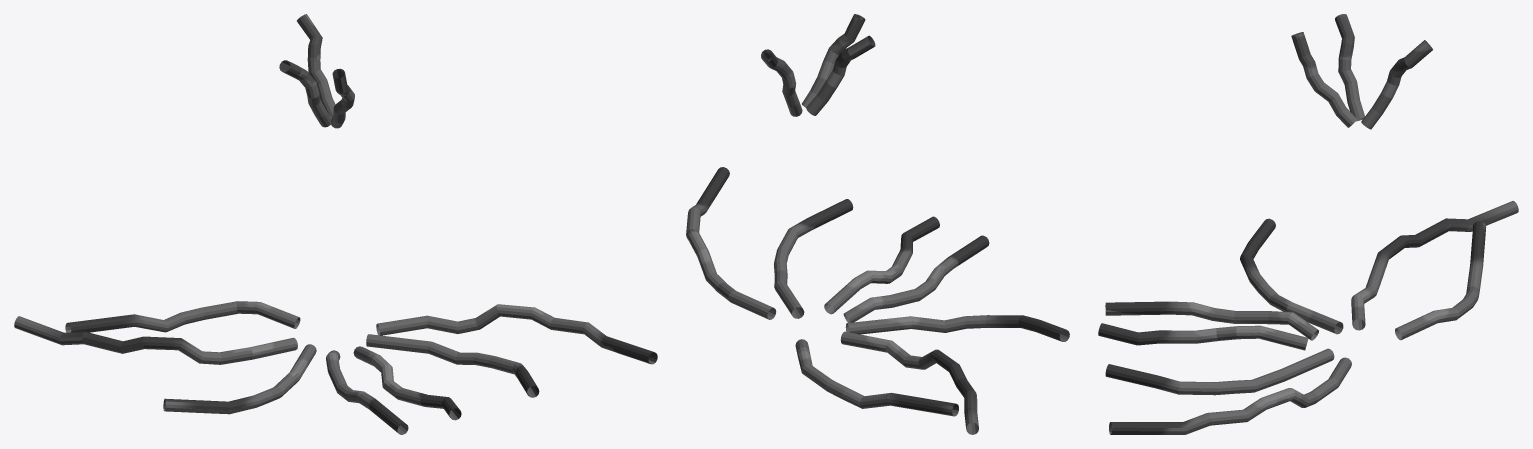
The model's file is Pipes.fbx.
3 renders of one model, left to right at view 1: azimuth 30°, elevation 25°; view 2: azimuth 150°, elevation 25°; view 3: azimuth 270°, elevation 25°, orthographic. The views are drawn at different scales.
Visible parts, largest first — view 1: Pipes; view 2: Pipes; view 3: Pipes.
Boxes of the visible parts, x1,y1,x2,y2 form: Pipes: (14, 14, 657, 434); Pipes: (686, 14, 1069, 434); Pipes: (1098, 14, 1518, 434).
Bounding box in the file's own units: 1226 × 797 × 961.
